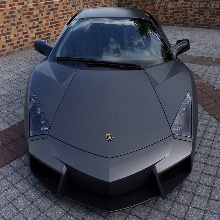no damage: (22, 7, 200, 211)
